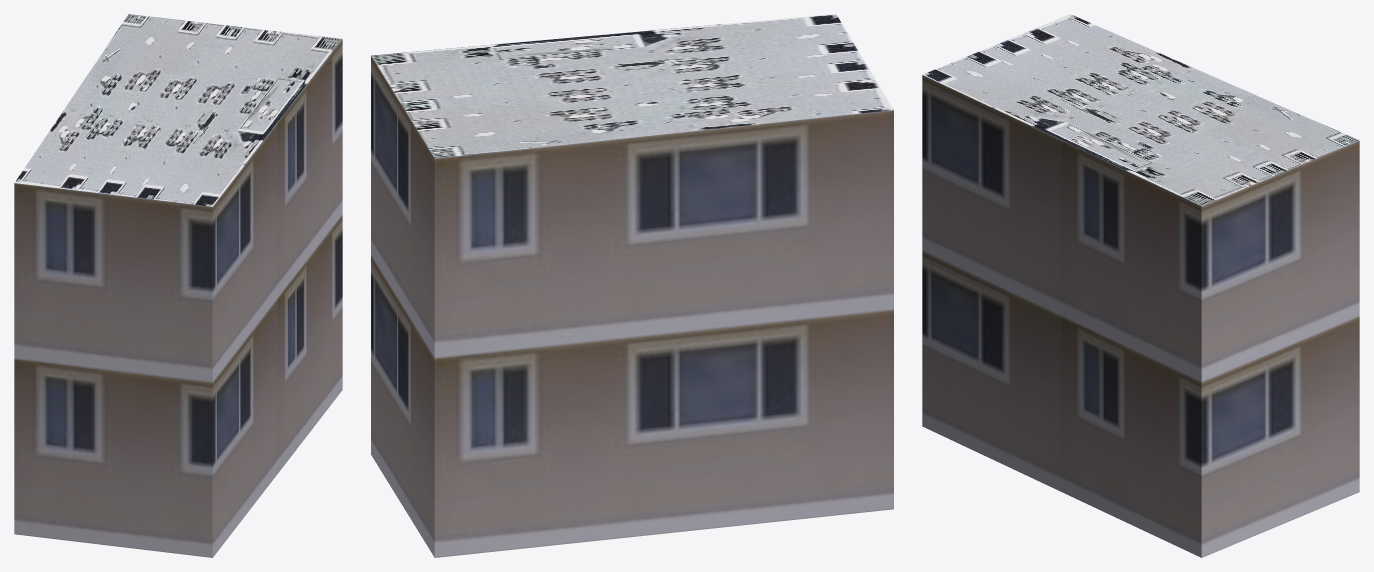
Rendered from ResTex__2806.fbx.
3 renders of one model, left to right at view 1: azimuth 30°, elevation 25°; view 2: azimuth 150°, elevation 25°; view 3: azimuth 270°, elevation 25°, orthographic. The views are drawn at different scales.
Visible parts, largest first — view 1: CityEngineMaterial_21_m, CityEngineMaterial_8_m; view 2: CityEngineMaterial_21_m, CityEngineMaterial_8_m; view 3: CityEngineMaterial_21_m, CityEngineMaterial_8_m.
Part boxes in pixels (bbox=[...]): CityEngineMaterial_21_m: bbox=[14, 39, 342, 557]; CityEngineMaterial_8_m: bbox=[15, 14, 341, 206]; CityEngineMaterial_21_m: bbox=[371, 55, 893, 557]; CityEngineMaterial_8_m: bbox=[371, 14, 893, 158]; CityEngineMaterial_21_m: bbox=[922, 75, 1359, 557]; CityEngineMaterial_8_m: bbox=[922, 14, 1359, 206].
Bounding box in the file's own units: 7.04 × 6 × 6.77.
2 materials, 2 textured.
